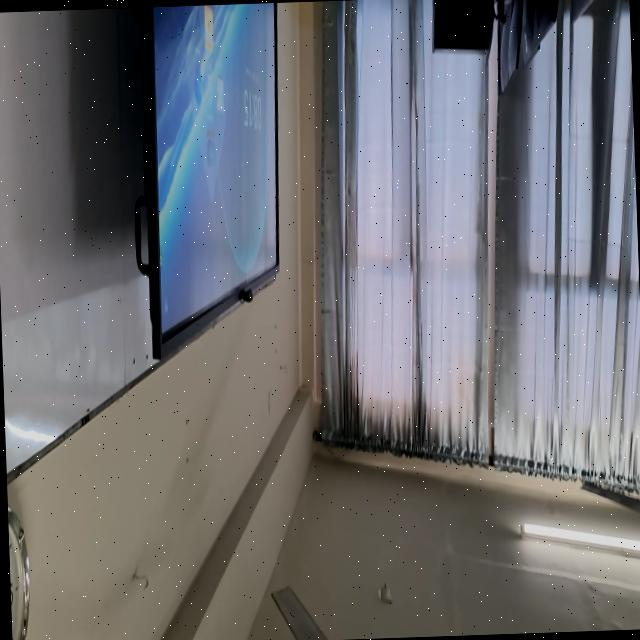Cpu: (431, 0, 492, 52)
Digital board: (134, 1, 277, 359)
Light: (519, 521, 640, 555)
Monitor: (497, 0, 514, 89), (507, 0, 522, 77), (532, 0, 557, 44), (520, 0, 535, 63), (570, 0, 593, 20), (517, 30, 519, 49)
